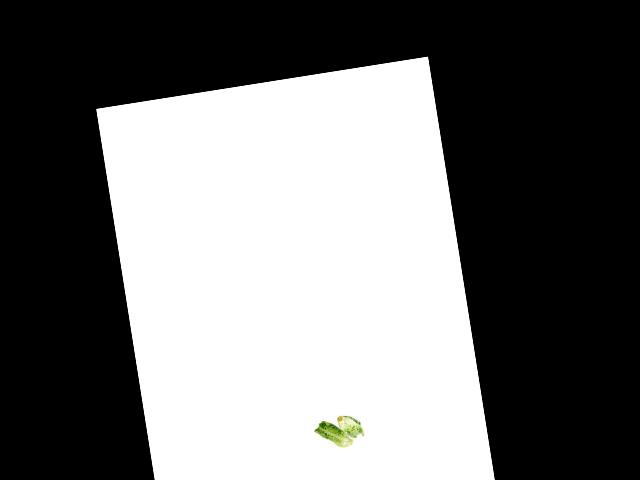lettuce: (313, 406, 367, 452)
